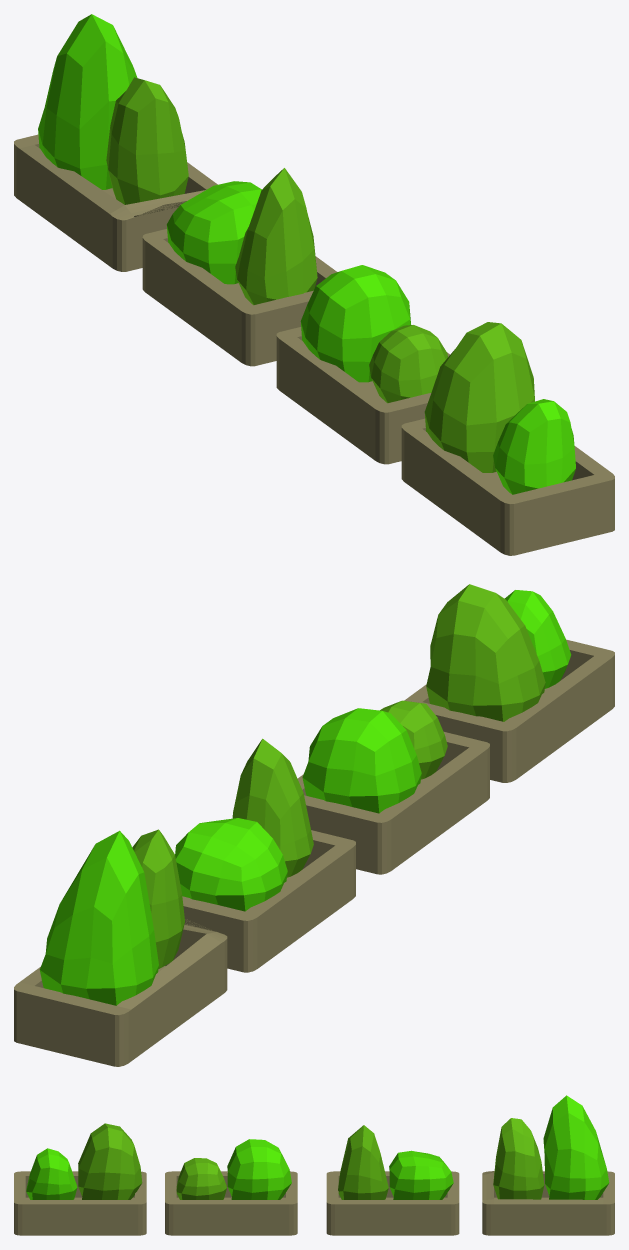
The model's file is biljke.fbx.
The picture shows the model from 3 angles, top to bottom: view 1: azimuth 30°, elevation 25°; view 2: azimuth 150°, elevation 25°; view 3: azimuth 270°, elevation 25°; orthographic projection. The views are drawn at different scales.
Parts seen in each view (by area): view 1: Roundcube.003, Roundcube.001, Cube.001, Roundcube.002, Roundcube, Cube.003, Cube.002, Cube; view 2: Roundcube.003, Roundcube.001, Cube.003, Roundcube.002, Roundcube, Cube, Cube.001, Cube.002; view 3: Roundcube.003, Roundcube.001, Cube.002, Cube.003, Cube, Cube.001, Roundcube.002, Roundcube.
Boxes of the visible parts, x1,y1,x2,y2 form: Roundcube.003: (38, 14, 188, 204); Roundcube.001: (424, 322, 575, 494); Cube.001: (401, 418, 614, 555); Roundcube.002: (166, 168, 317, 305); Roundcube: (300, 265, 447, 403); Cube.003: (14, 134, 217, 271); Cube.002: (142, 229, 337, 366); Cube: (276, 327, 449, 464); Roundcube.003: (39, 829, 184, 1005); Roundcube.001: (426, 584, 571, 721); Cube.003: (14, 919, 227, 1066); Roundcube.002: (175, 738, 313, 911); Roundcube: (302, 700, 447, 813); Cube: (297, 732, 489, 874); Cube.001: (404, 639, 614, 782); Cube.002: (182, 830, 355, 972); Roundcube.003: (493, 1095, 609, 1199); Roundcube.001: (26, 1123, 142, 1199); Cube.002: (326, 1171, 459, 1235); Cube.003: (482, 1171, 614, 1235); Cube: (165, 1171, 297, 1235); Cube.001: (14, 1171, 146, 1235); Roundcube.002: (338, 1125, 453, 1199); Roundcube: (176, 1139, 291, 1199).
Bounding box in the file's own units: 134 × 227 × 1034.
